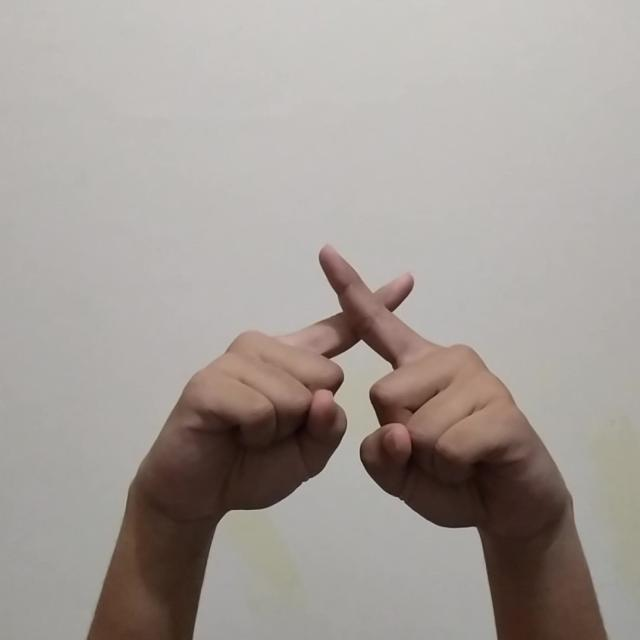X: (127, 224, 578, 546)
